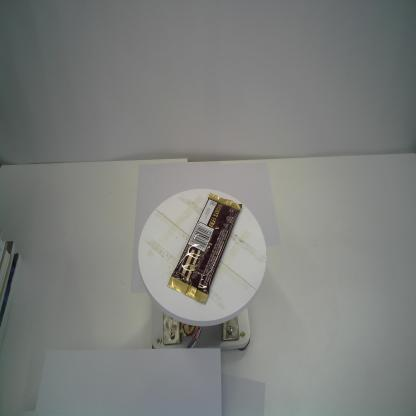Chocolate: (167, 189, 244, 306)
